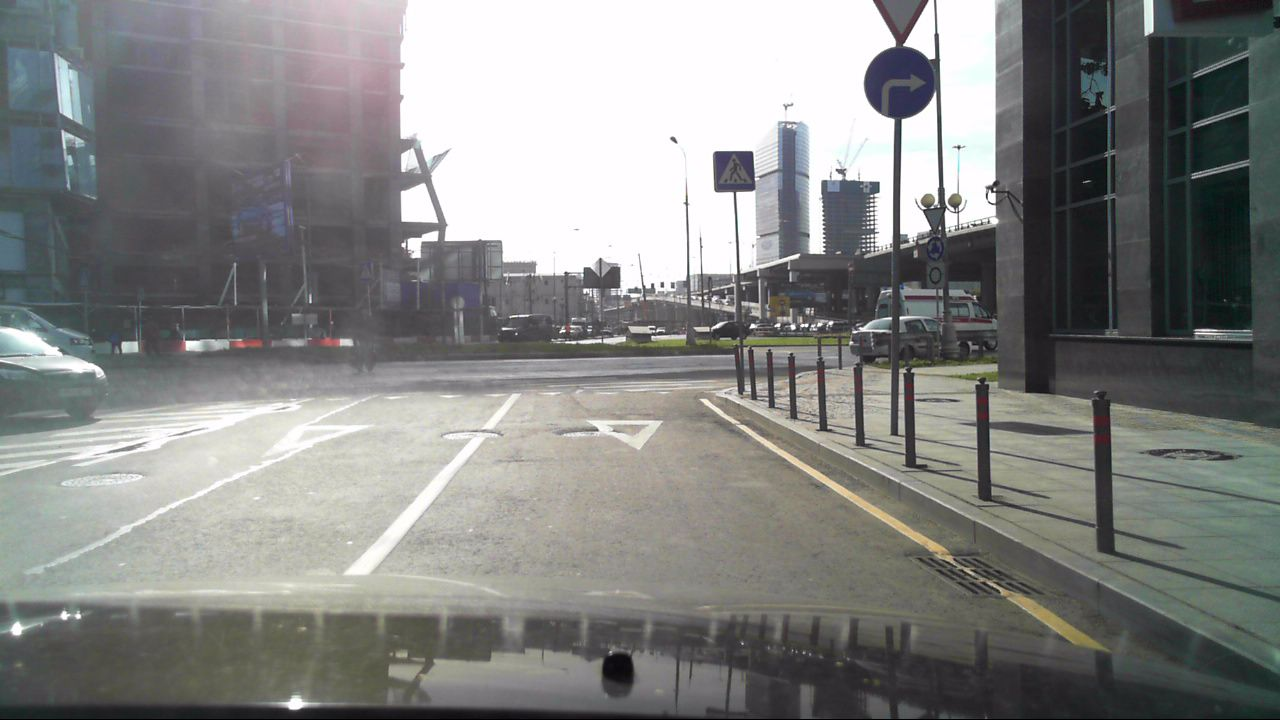Round-About: (924, 238, 946, 262)
